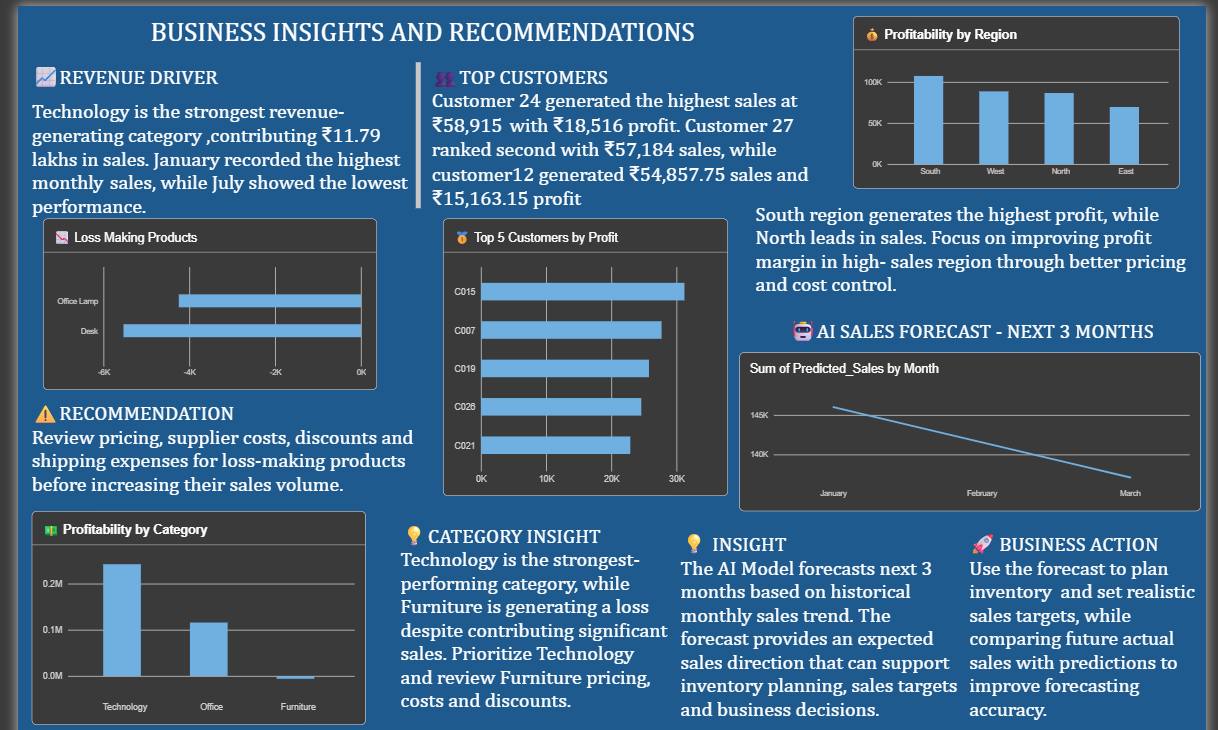

The dashboard page shown, as its layout file describes it:
{"tool":"powerbi","page":{"name":"BUSINESS INSIGHTS","canvas":[1900,1200],"ordinal":1},"visuals":[{"type":"textbox","box":[212,20,1140,70],"z":0},{"type":"textbox","box":[22,90,622,250],"z":1},{"type":"textbox","box":[662,90,614,274],"z":2},{"type":"clusteredBarChart","title":"🥇 Top 5 Customers by Profit","fields":{"Category":["Sales_Analytics_Cleaned.Customer_ID"],"Y":["Sum(Sales_Analytics_Cleaned.Profit)"]},"box":[680,340,456,444],"z":3},{"type":"clusteredBarChart","title":"📉 Loss Making Products","fields":{"Category":["Sales_Analytics_Cleaned.Product_Name"],"Y":["Sum(Sales_Analytics_Cleaned.Profit)"]},"box":[40,340,534,274],"z":4},{"type":"textbox","box":[22,628,658,180],"z":5},{"type":"clusteredColumnChart","title":"💰 Profitability by Region","fields":{"Category":["Sales_Analytics_Cleaned.Region"],"Y":["Sum(Sales_Analytics_Cleaned.Profit)"]},"box":[1336,16,522,276],"z":6},{"type":"textbox","box":[1180,316,712,162],"z":7},{"type":"clusteredColumnChart","title":"💵 Profitability by Category","fields":{"Category":["Sales_Analytics_Cleaned.Category"],"Y":["Sum(Sales_Analytics_Cleaned.Profit)"]},"box":[22,808,534,342],"z":8},{"type":"textbox","box":[612,824,430,326],"z":9},{"type":"textbox","box":[1234,496,610,58],"z":10},{"type":"lineChart","fields":{"Category":["Sales_Forecast.Month.Variation.Date Hierarchy.Month"],"Y":["Sum(Sales_Forecast.Predicted_Sales)"]},"box":[1154,554,738,254],"z":11},{"type":"textbox","box":[1060,838,444,340],"z":12},{"type":"textbox","box":[1522,838,370,340],"z":13}]}

Visuals, with their boxes on the page's 1900x1200 design canvas (x1, y1, x2, y2). These are canvas units, not pixel positions in the 1218x730 screenshot, which may show the page scaled, cropped or inside an application window:
textbox: locate(212, 20, 1352, 90)
textbox: locate(22, 90, 644, 340)
textbox: locate(662, 90, 1276, 364)
"🥇 Top 5 Customers by Profit" clusteredBarChart: locate(680, 340, 1136, 784)
"📉 Loss Making Products" clusteredBarChart: locate(40, 340, 574, 614)
textbox: locate(22, 628, 680, 808)
"💰 Profitability by Region" clusteredColumnChart: locate(1336, 16, 1858, 292)
textbox: locate(1180, 316, 1892, 478)
"💵 Profitability by Category" clusteredColumnChart: locate(22, 808, 556, 1150)
textbox: locate(612, 824, 1042, 1150)
textbox: locate(1234, 496, 1844, 554)
lineChart - Sales_Forecast.Month.Variation.Date Hierarchy.Month x Sum(Sales_Forecast.Predicted_Sales): locate(1154, 554, 1892, 808)
textbox: locate(1060, 838, 1504, 1178)
textbox: locate(1522, 838, 1892, 1178)
